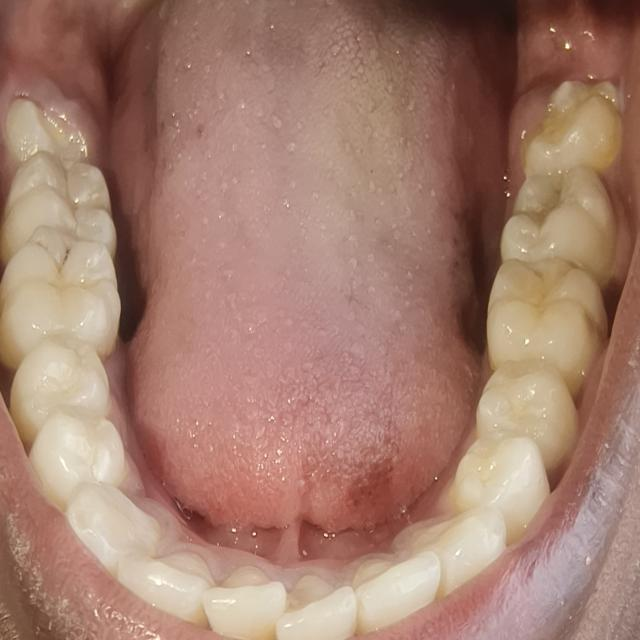processing_area: (0, 0, 496, 537)
